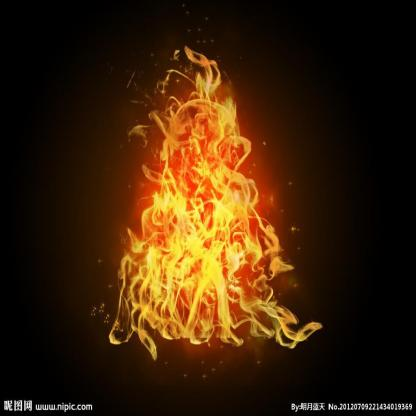fire: (111, 45, 319, 359)
